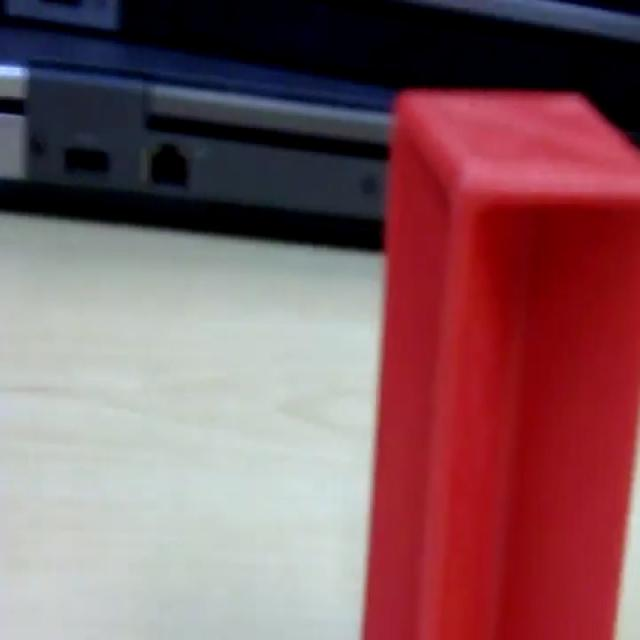red_block: (361, 85, 638, 636)
